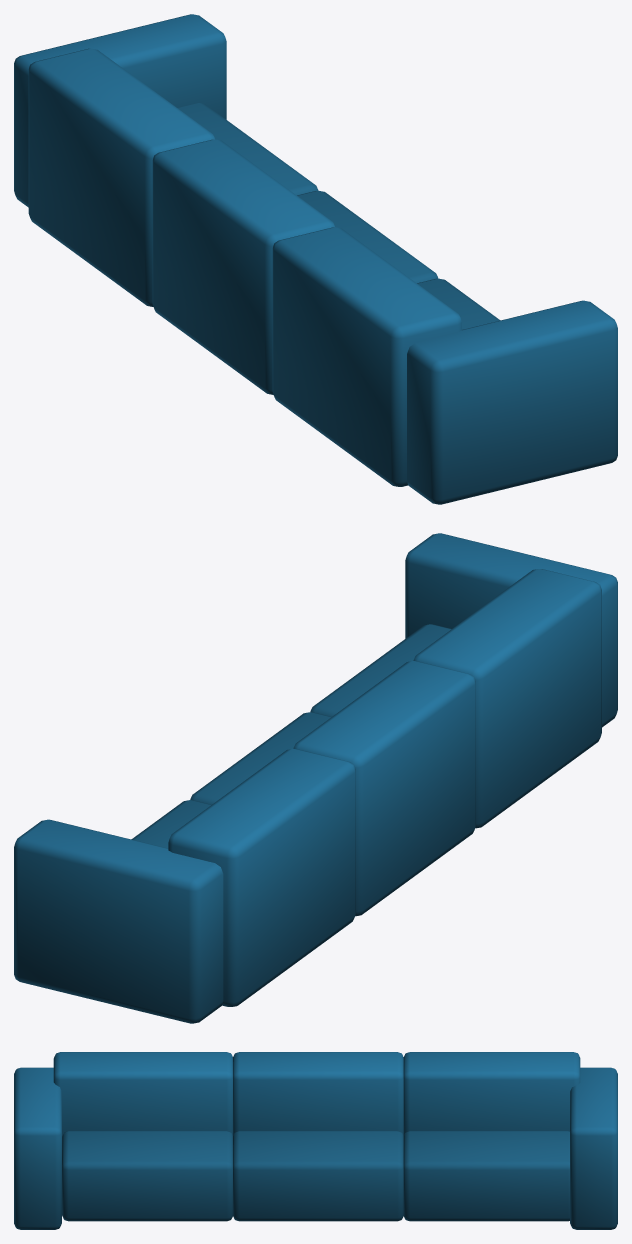
Rendered from SM_l-sofa.fbx.
3 renders of one model, top to bottom at view 1: azimuth 30°, elevation 25°; view 2: azimuth 150°, elevation 25°; view 3: azimuth 270°, elevation 25°, orthographic. The views are drawn at different scales.
Parts seen in each view (by area): view 1: Cube.002; view 2: Cube.002; view 3: Cube.002.
Boxes of the visible parts, x1=… form: Cube.002: x1=14, y1=14, x2=617, y2=504; Cube.002: x1=14, y1=533, x2=617, y2=1023; Cube.002: x1=14, y1=1052, x2=617, y2=1229.
Size of the model in its own units: 117 by 90.55 by 434.
